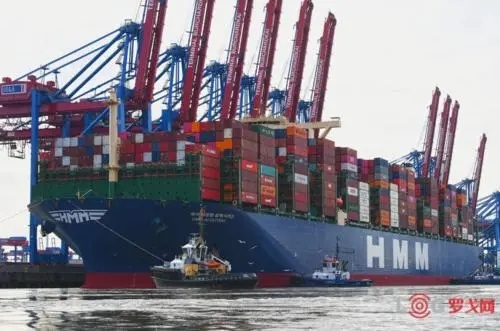Cargoship: (15, 29, 500, 278)
otherboat: (146, 232, 258, 291), (287, 242, 381, 289)
